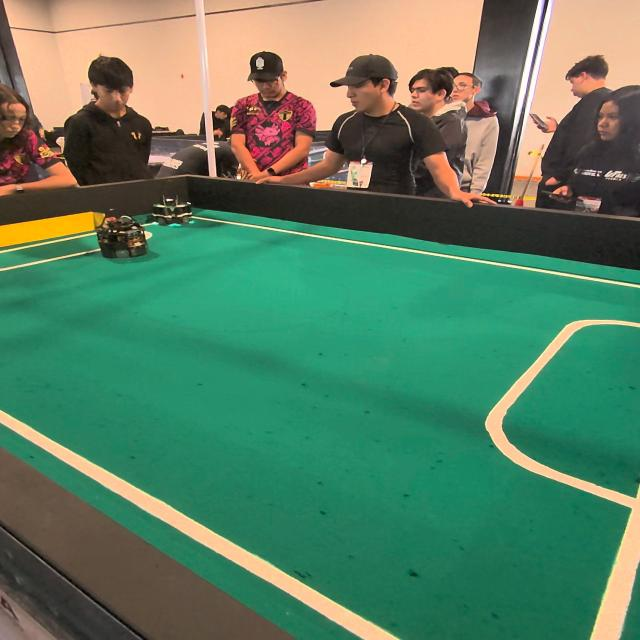Robot: (92, 206, 152, 262), (150, 180, 191, 231)
